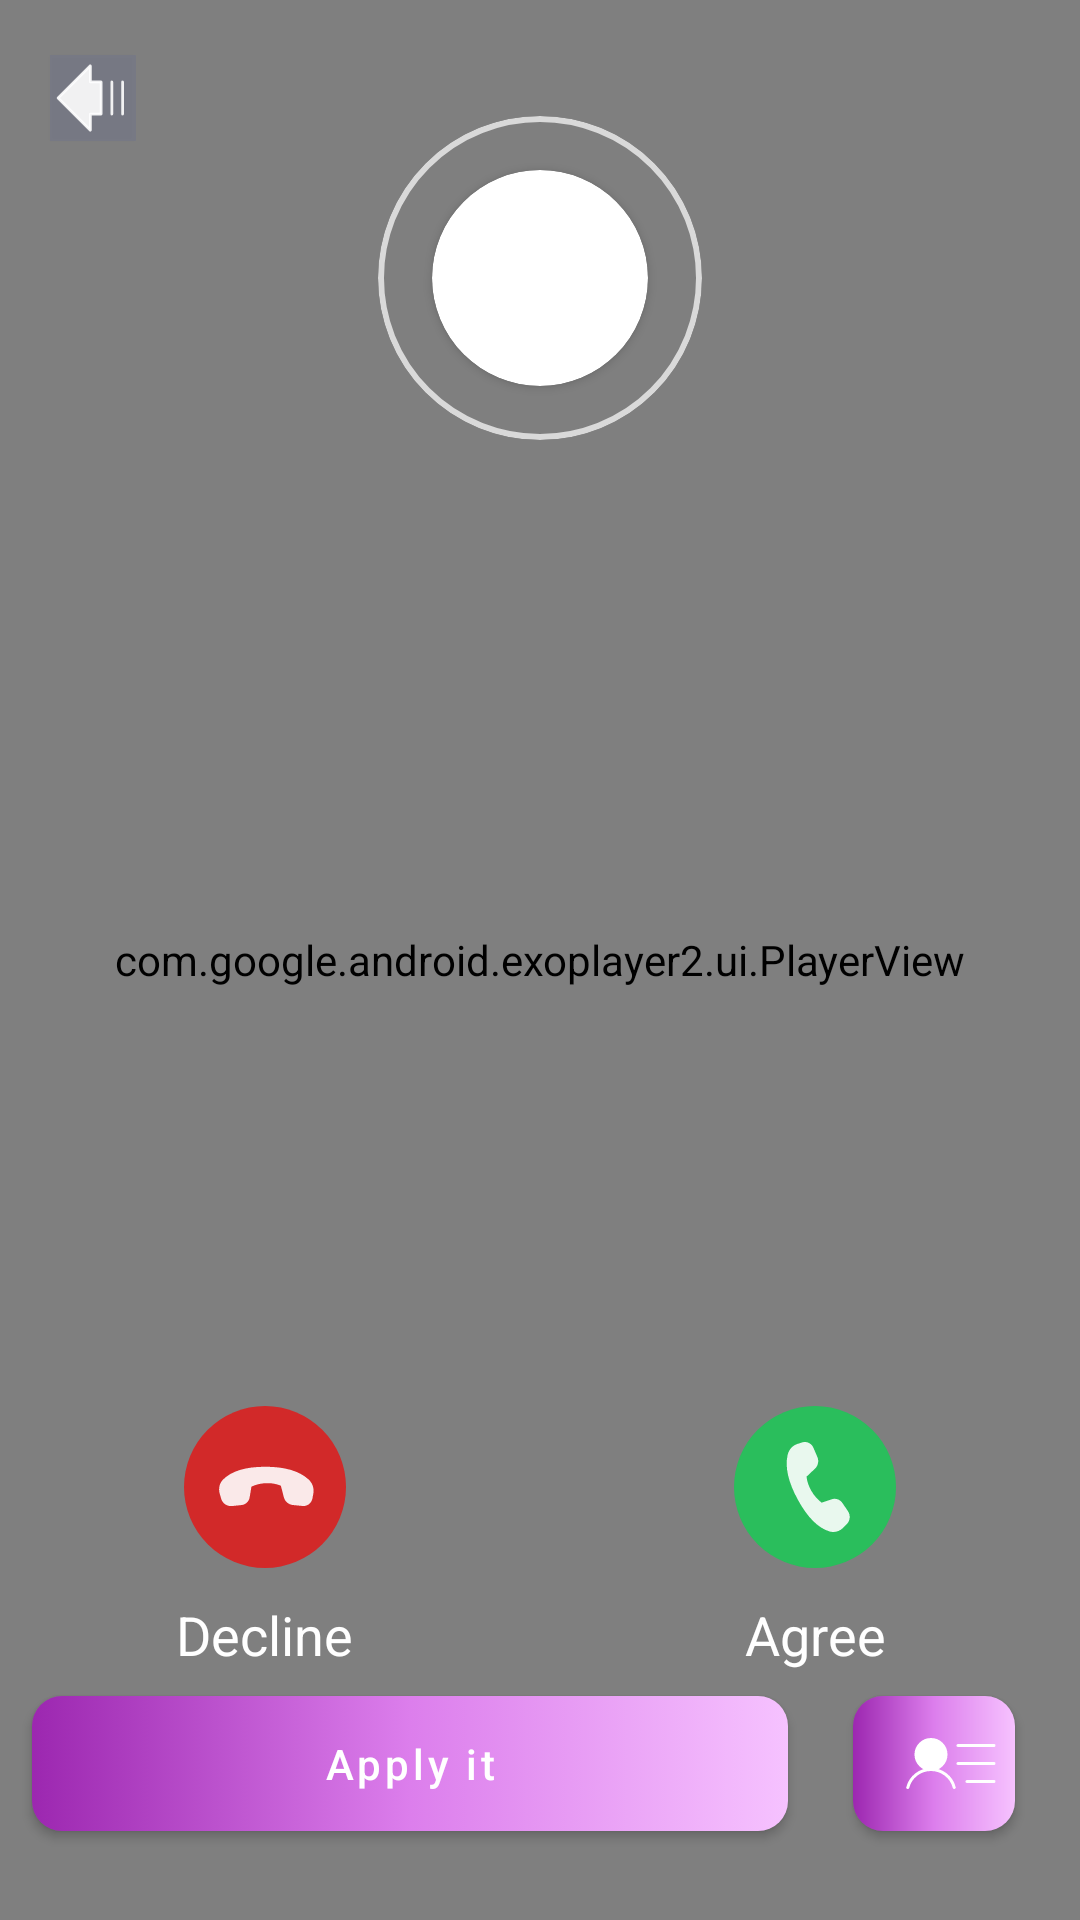

Locate icon controls on the screen. Image size 1080x1920, boxes as (x1, y1, x2, y2).
back: (57, 64, 124, 132)
contacts: (853, 1696, 1015, 1831)
